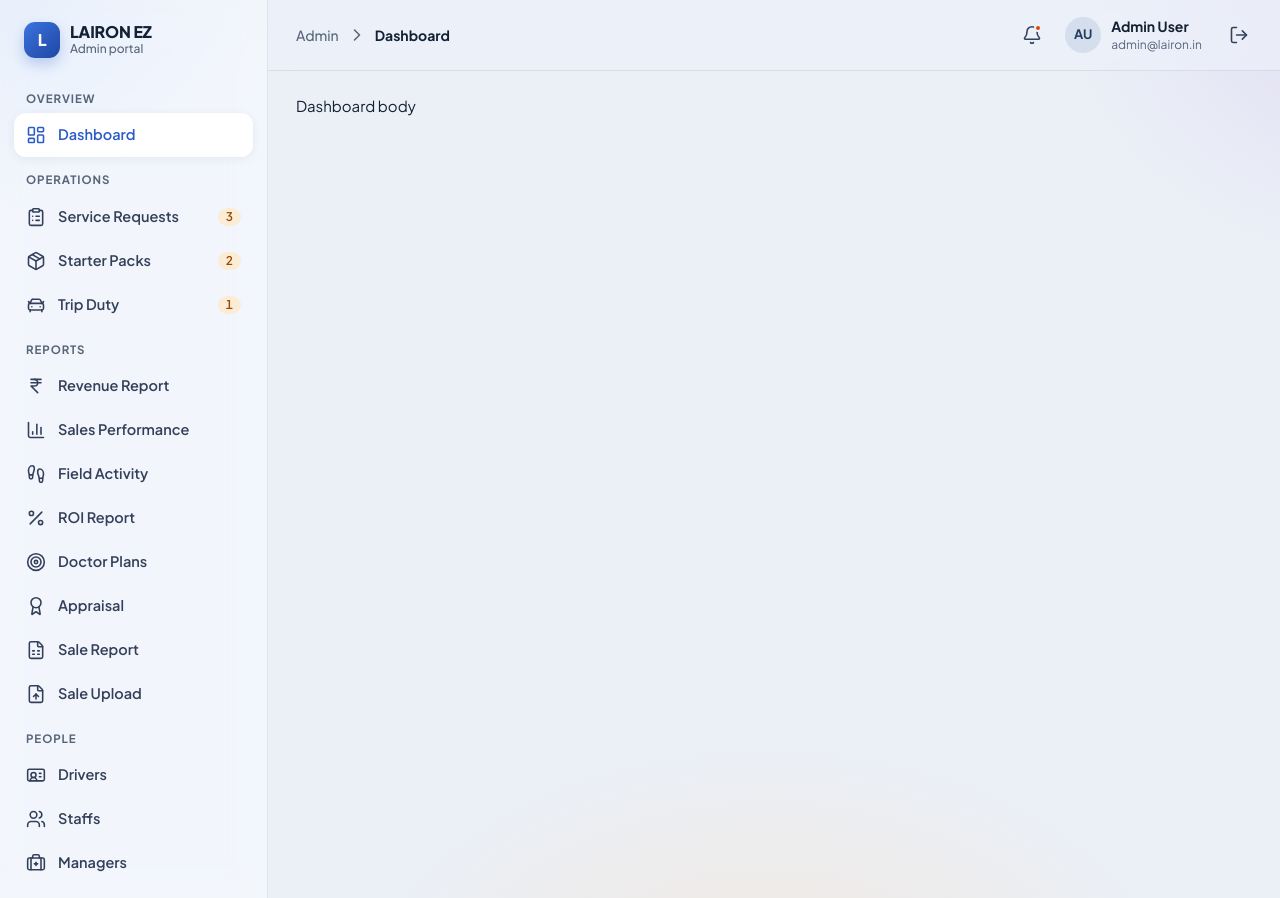
Test: AdminLayout › asks before signing out
Click the button named "Sign out" at (1239, 35), box x1=1218 y1=14 x2=1260 y2=56
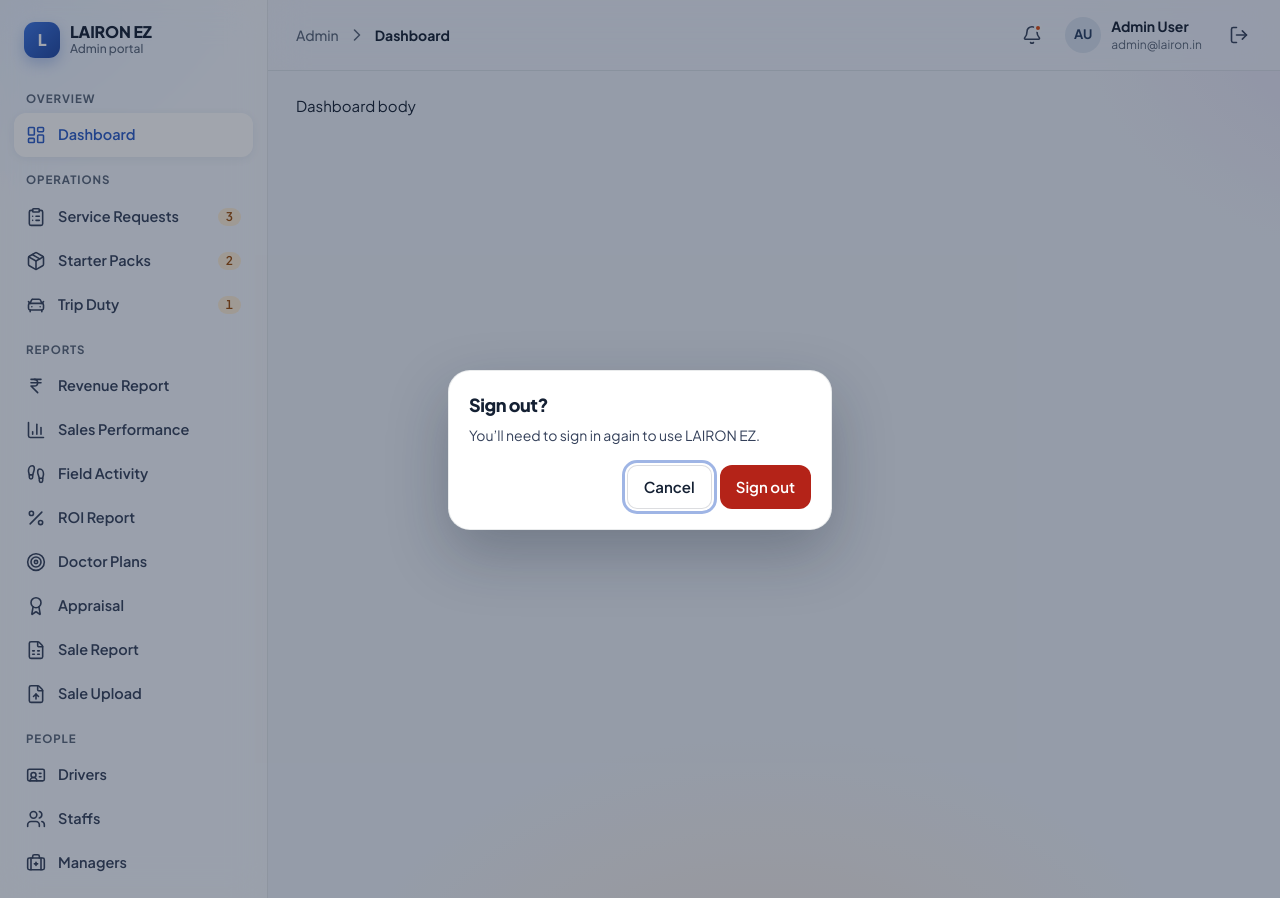
Now the dialog "Sign out?" is shown, box x1=448 y1=370 x2=832 y2=530
